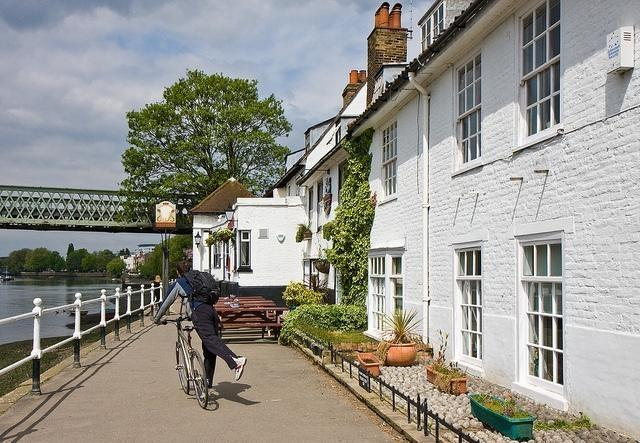bicycle: (160, 314, 212, 408)
